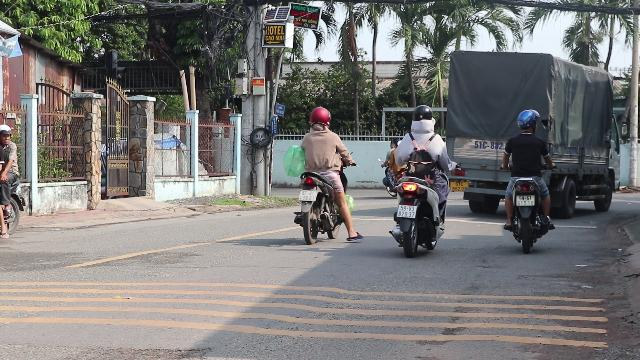helmet: (409, 105, 435, 132), (515, 109, 539, 133), (307, 106, 331, 130)
licenseplate: (396, 204, 416, 218), (299, 190, 317, 201), (516, 196, 534, 206)
motorcyclist: (384, 104, 452, 256), (292, 106, 358, 244), (498, 110, 556, 250)
